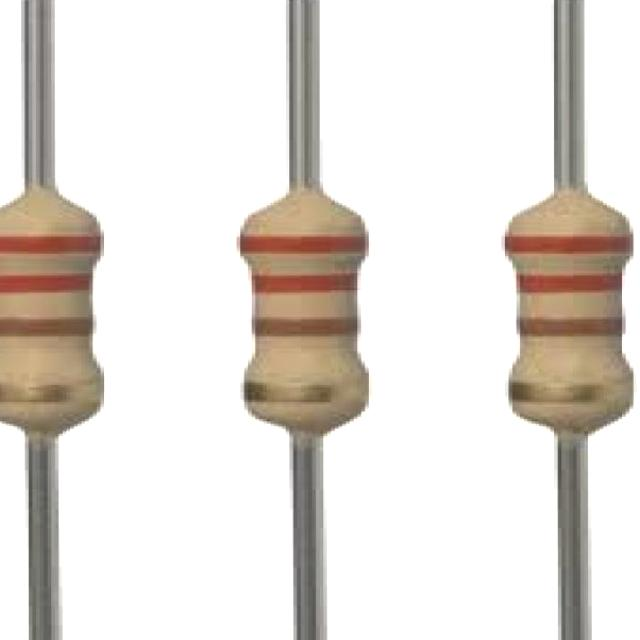Resistor: (238, 187, 369, 443), (504, 186, 635, 442), (0, 187, 103, 442)
brown: (246, 317, 372, 335), (512, 316, 623, 334), (0, 318, 92, 339)
gold: (237, 384, 375, 401), (508, 382, 639, 399), (0, 383, 106, 401)
red: (234, 235, 368, 256), (494, 237, 635, 254), (246, 276, 362, 293), (0, 275, 96, 294), (513, 276, 620, 293), (0, 237, 99, 255)
